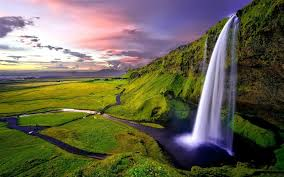field: (6, 82, 208, 177)
mountain: (161, 9, 284, 116)
sky: (1, 3, 204, 79)
waterfall: (189, 20, 250, 171)
